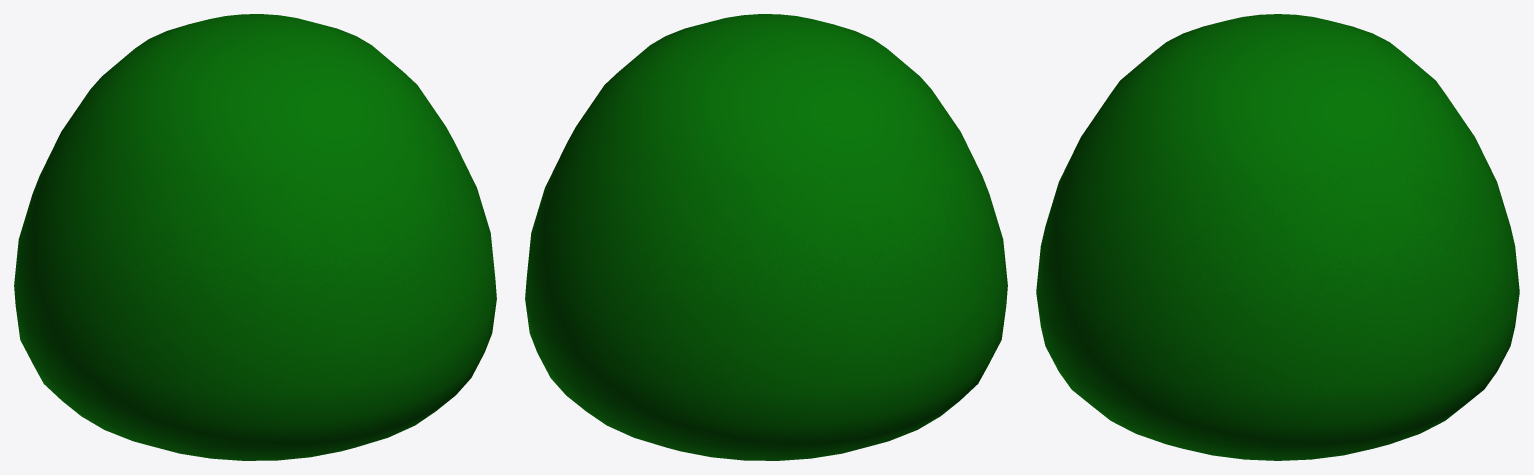
The model's file is slimey.obj.
The picture shows the model from 3 angles, left to right: view 1: azimuth 30°, elevation 25°; view 2: azimuth 150°, elevation 25°; view 3: azimuth 270°, elevation 25°; orthographic projection.
Visible parts, largest first — view 1: Sphere; view 2: Sphere; view 3: Sphere.
Boxes of the visible parts, box(x1,y1,x2,y2) form: Sphere: box(14, 14, 496, 460); Sphere: box(525, 14, 1007, 460); Sphere: box(1036, 14, 1519, 460).
Bounding box in the file's own units: 2 × 1.72 × 2.
1 material, 1 textured.
